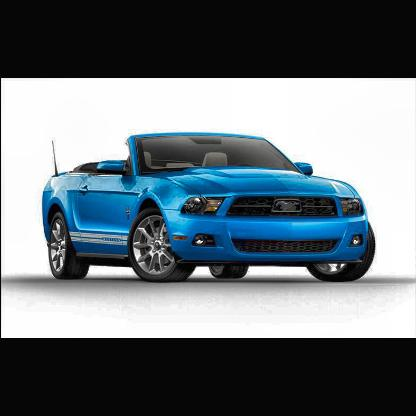Ford Mustang Convertible 2007: (39, 131, 378, 285)
